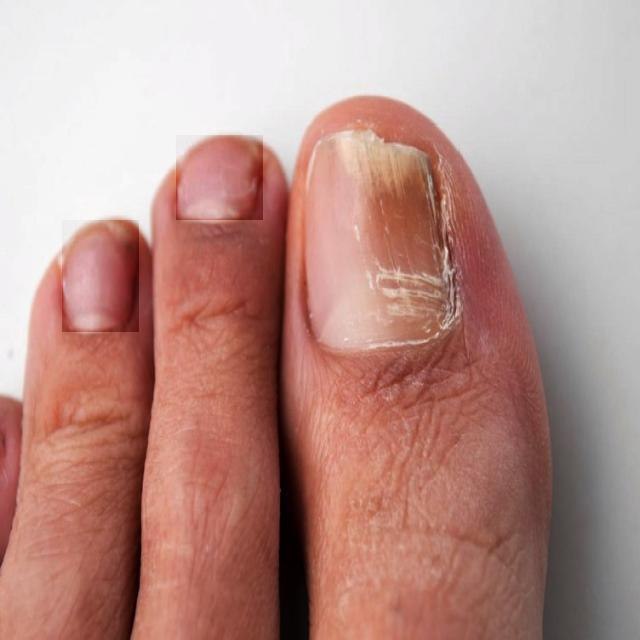diabetes: (303, 125, 458, 350)
sehat: (62, 221, 139, 332), (176, 136, 263, 220)
